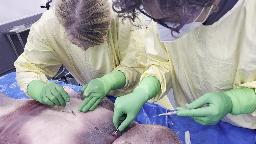scalpel: (54, 80, 76, 116), (152, 105, 210, 117)
